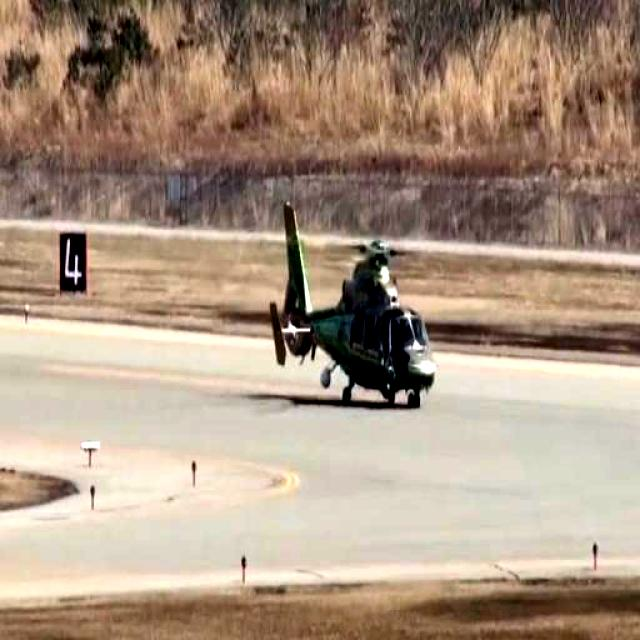drone: (259, 181, 442, 419)
